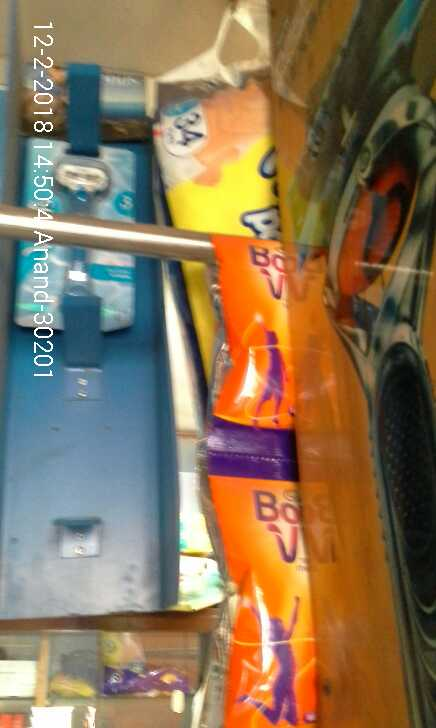venus: (30, 137, 140, 335)
